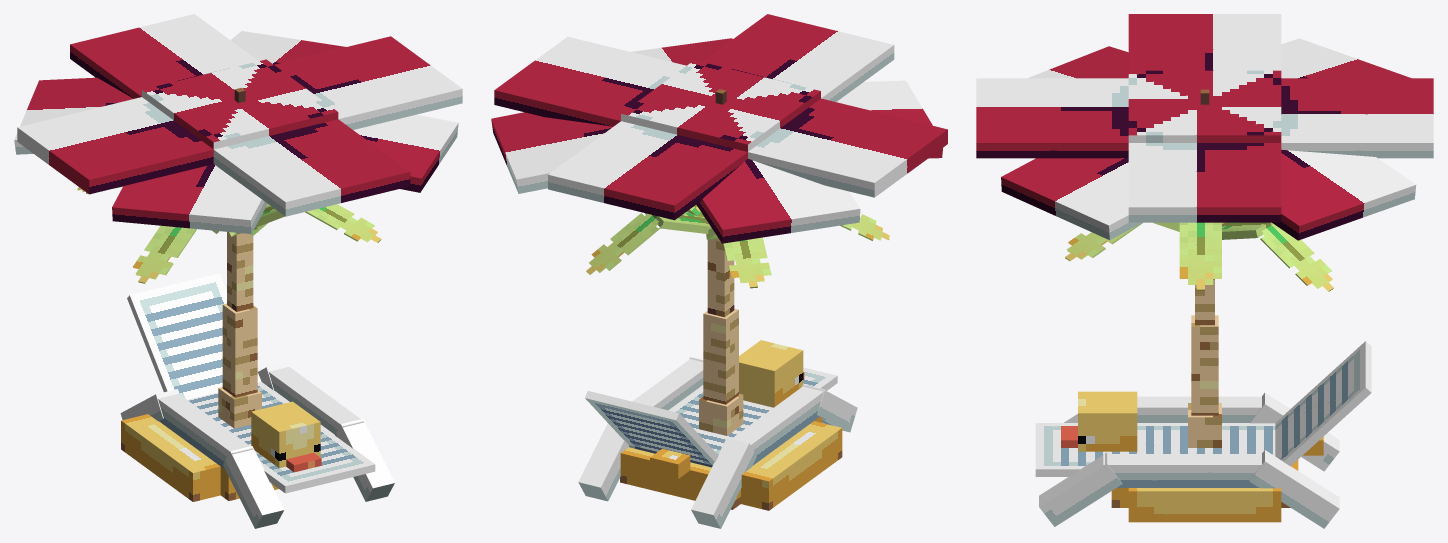
The model's file is props.gltf.
3 renders of one model, left to right at view 1: azimuth 30°, elevation 25°; view 2: azimuth 150°, elevation 25°; view 3: azimuth 270°, elevation 25°, orthographic. The views are drawn at different scales.
Parts seen in each view (by area): view 1: cube (×23); view 2: cube (×27); view 3: cube (×25).
Boxes of the visible parts, x1=… form: cube (×23): x1=14, y1=14, x2=462, y2=528; cube (×27): x1=491, y1=14, x2=947, y2=528; cube (×25): x1=976, y1=14, x2=1433, y2=528.
Size of the model in its own units: 3.38 by 3.25 by 3.38.
5 materials, 5 textured.
